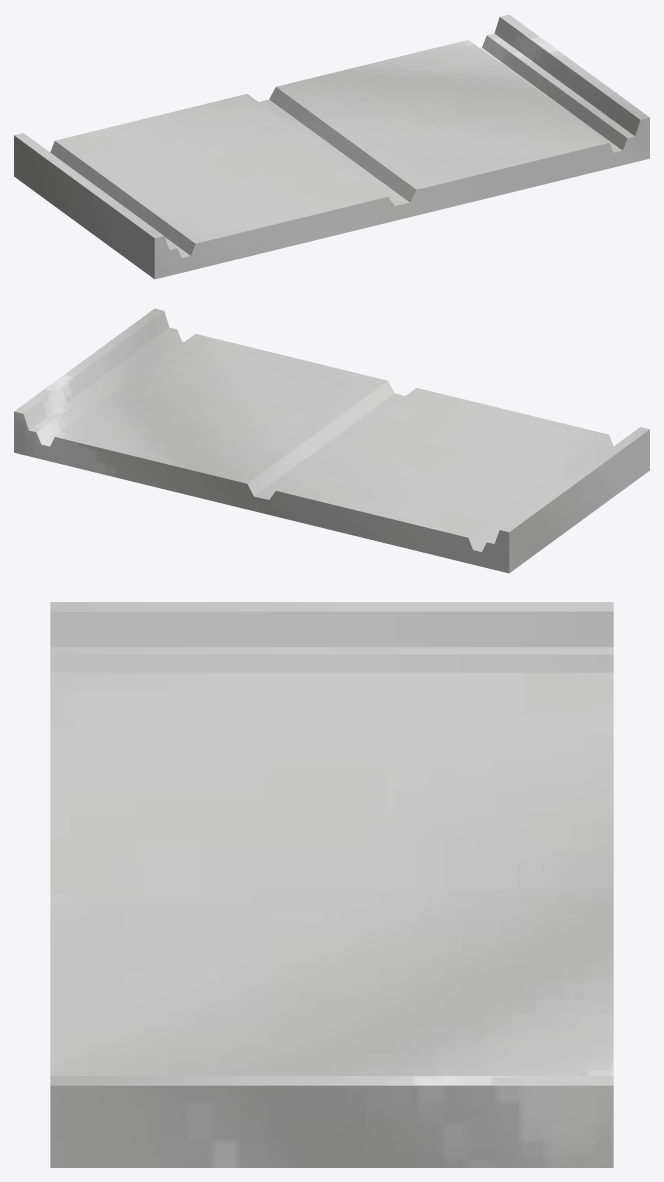
Rendered from FloorSection 1.fbx.
3 views of the same model, one above another, from view 1: azimuth 30°, elevation 25°; view 2: azimuth 150°, elevation 25°; view 3: azimuth 270°, elevation 25° (orthographic). The views are drawn at different scales.
Parts seen in each view (by area): view 1: pCube261; view 2: pCube261; view 3: pCube261.
Part boxes in pixels (x1,y1,x2,y2): pCube261: (14,14,649,279); pCube261: (14,308,649,573); pCube261: (50,602,613,1167).
Bounding box in the file's own units: 501 × 39.8 × 247.
Materials: 1 (1 with a texture image).
